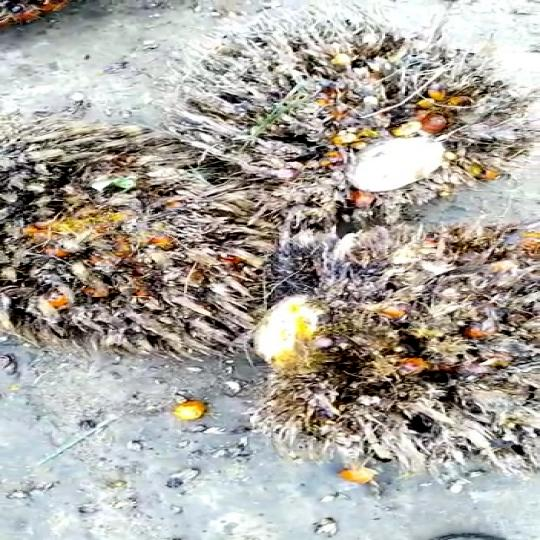terlalu masak: (231, 192, 540, 474), (178, 4, 516, 224), (0, 110, 257, 371)
